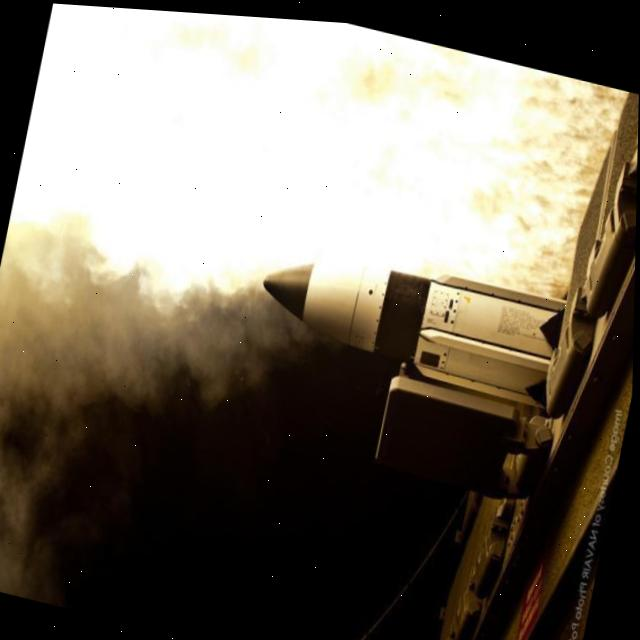missile: (251, 216, 582, 402)
